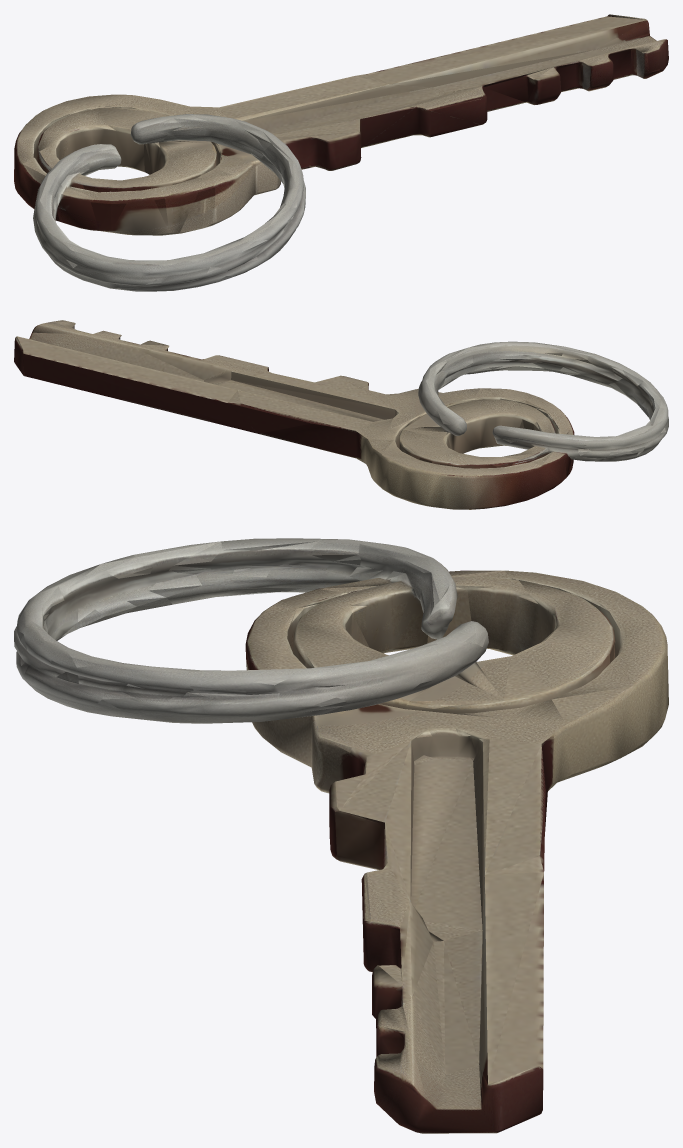
The model's file is HouseKey.fbx.
The picture shows the model from 3 angles, top to bottom: view 1: azimuth 30°, elevation 25°; view 2: azimuth 150°, elevation 25°; view 3: azimuth 270°, elevation 25°; orthographic projection. The views are drawn at different scales.
Parts seen in each view (by area): view 1: Mesh_0; view 2: Mesh_0; view 3: Mesh_0.
Boxes of the visible parts, <box> form: Mesh_0: <box>14,14,668,291</box>; Mesh_0: <box>14,320,668,509</box>; Mesh_0: <box>14,538,668,1133</box>.
Bounding box in the file's own units: 190 × 18.05 × 95.53.
Materials: 1 (1 with a texture image).
